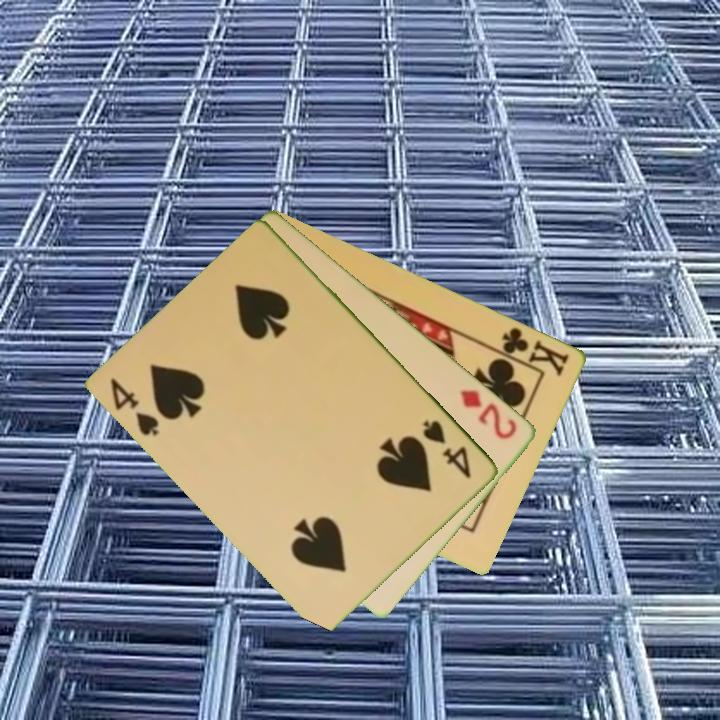2d: (457, 386, 521, 442)
4s: (419, 416, 475, 481), (107, 374, 163, 439)
Kc: (489, 323, 573, 379)
